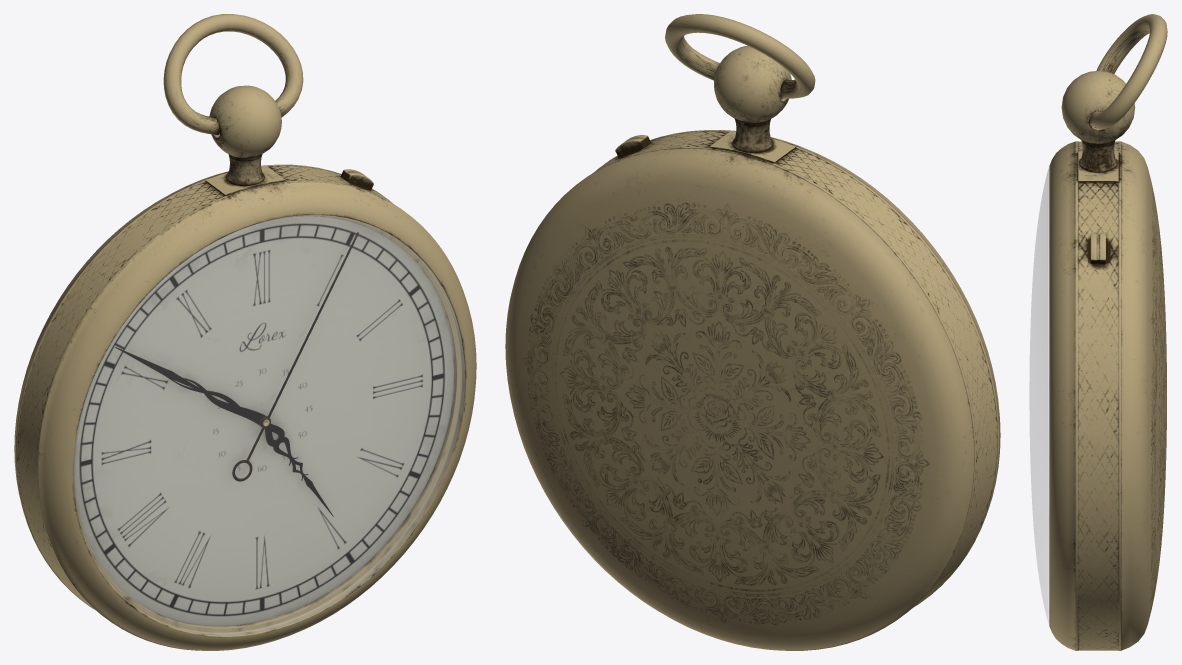
The model's file is pocket-watch.glb.
3 renders of one model, left to right at view 1: azimuth 30°, elevation 25°; view 2: azimuth 150°, elevation 25°; view 3: azimuth 270°, elevation 25°, orthographic. The views are drawn at different scales.
Visible parts, largest first — view 1: pocket_watch_frame, pocket_watch_ring, pocket_watch_hand_minutes, pocket_watch_hand_secondes, pocket_watch_hand_hours; view 2: pocket_watch_frame, pocket_watch_ring; view 3: pocket_watch_frame, pocket_watch_ring, pocket_watch_button.
Part boxes in pixels (left/top/right/bottom): pocket_watch_frame: left=14, top=85, right=476, bottom=650; pocket_watch_ring: left=163, top=14, right=303, bottom=135; pocket_watch_hand_minutes: left=115, top=347, right=267, bottom=426; pocket_watch_hand_secondes: left=232, top=232, right=358, bottom=481; pocket_watch_hand_hours: left=261, top=416, right=333, bottom=516; pocket_watch_frame: left=505, top=45, right=1000, bottom=650; pocket_watch_ring: left=665, top=14, right=815, bottom=98; pocket_watch_frame: left=1029, top=70, right=1166, bottom=650; pocket_watch_ring: left=1089, top=14, right=1167, bottom=129; pocket_watch_button: left=1088, top=232, right=1108, bottom=269.
Size of the model in its own units: 0.0577 by 0.0756 by 0.0156.
2 materials, 1 textured.
